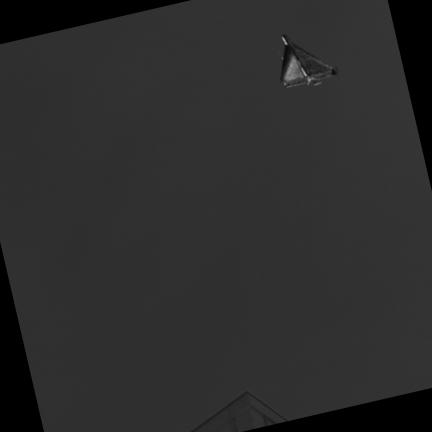Shahed: (281, 35, 338, 87)
